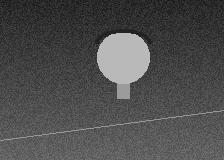no_helmet: (97, 29, 149, 88)
